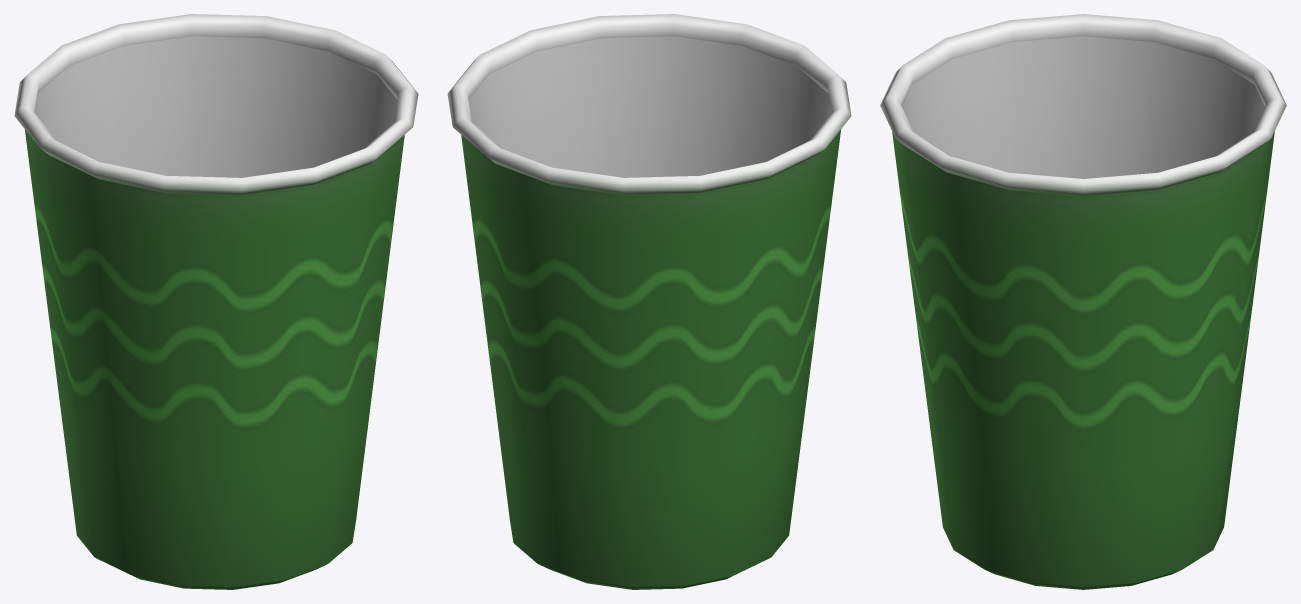
File: 011-Parfait_08.FBX
3 renders of one model, left to right at view 1: azimuth 30°, elevation 25°; view 2: azimuth 150°, elevation 25°; view 3: azimuth 270°, elevation 25°, orthographic.
Visible parts, largest first — view 1: 011-Parfait_08; view 2: 011-Parfait_08; view 3: 011-Parfait_08.
Part boxes in pixels (x1,y1,x2,y2): 011-Parfait_08: (14, 14, 418, 589); 011-Parfait_08: (447, 14, 851, 589); 011-Parfait_08: (880, 14, 1286, 589).
Bounding box in the file's own units: 14.13 × 16.88 × 14.13.
